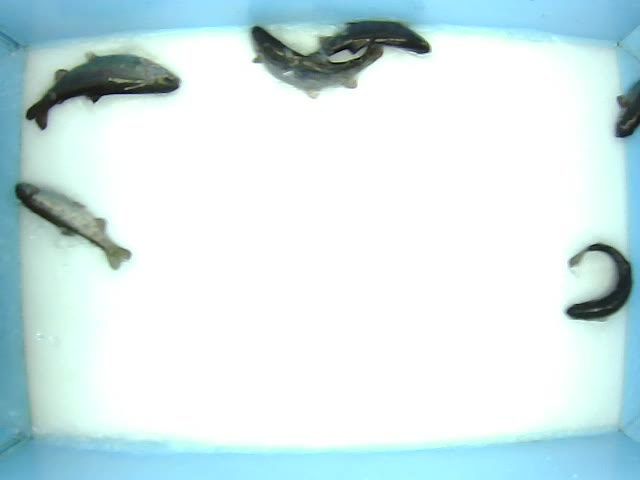fish: (23, 50, 181, 131), (12, 179, 134, 273), (245, 25, 385, 101), (562, 242, 633, 322), (315, 19, 435, 61)
